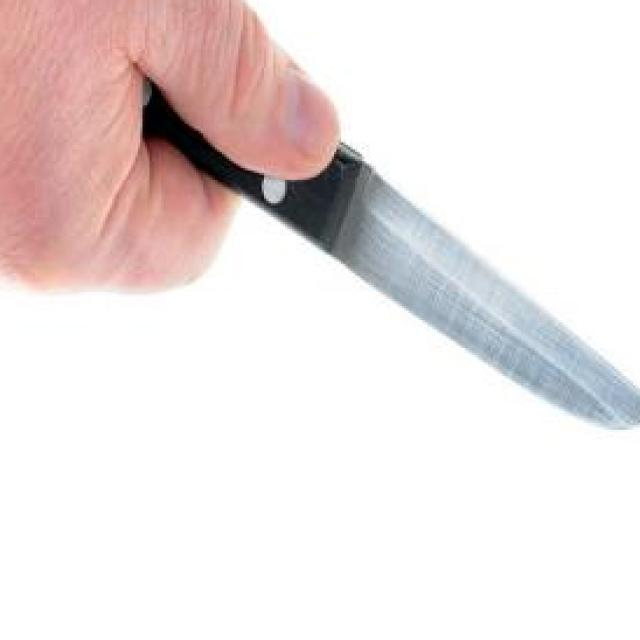knife: (138, 66, 640, 432)
